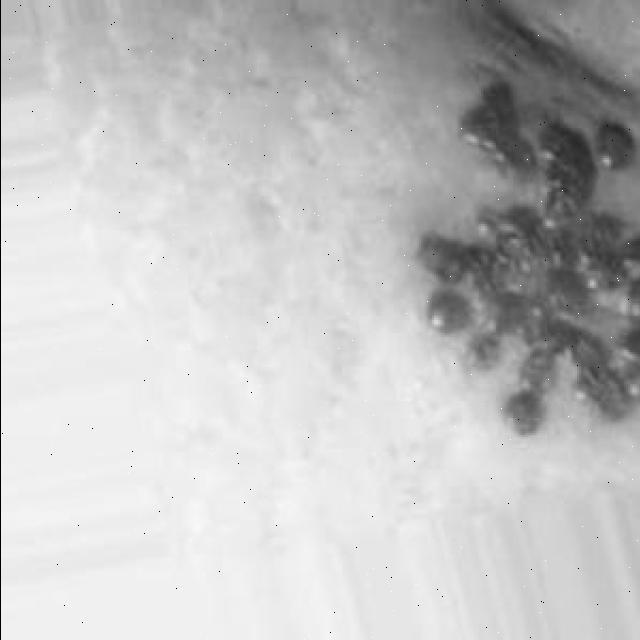Shingles: (422, 81, 640, 434)
